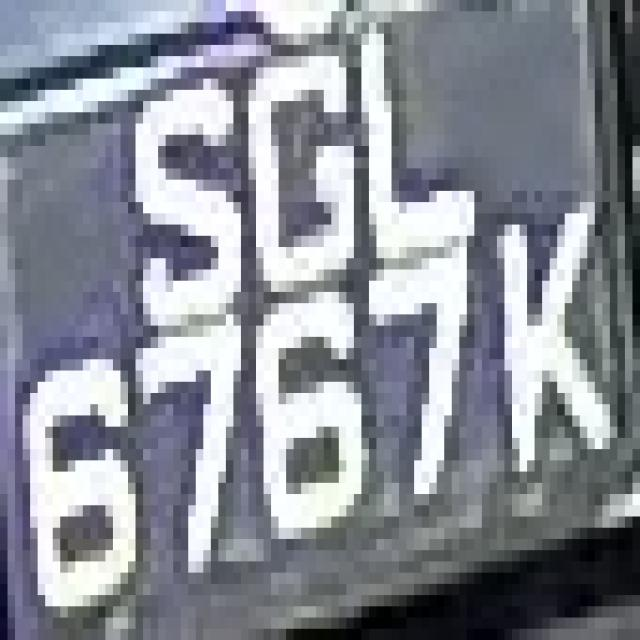6: (241, 326, 384, 572), (15, 337, 128, 606)
7: (361, 213, 482, 528), (120, 258, 226, 606)
G: (218, 34, 332, 292)
K: (489, 180, 610, 494)
L: (339, 56, 474, 270)
S: (113, 67, 241, 348)
